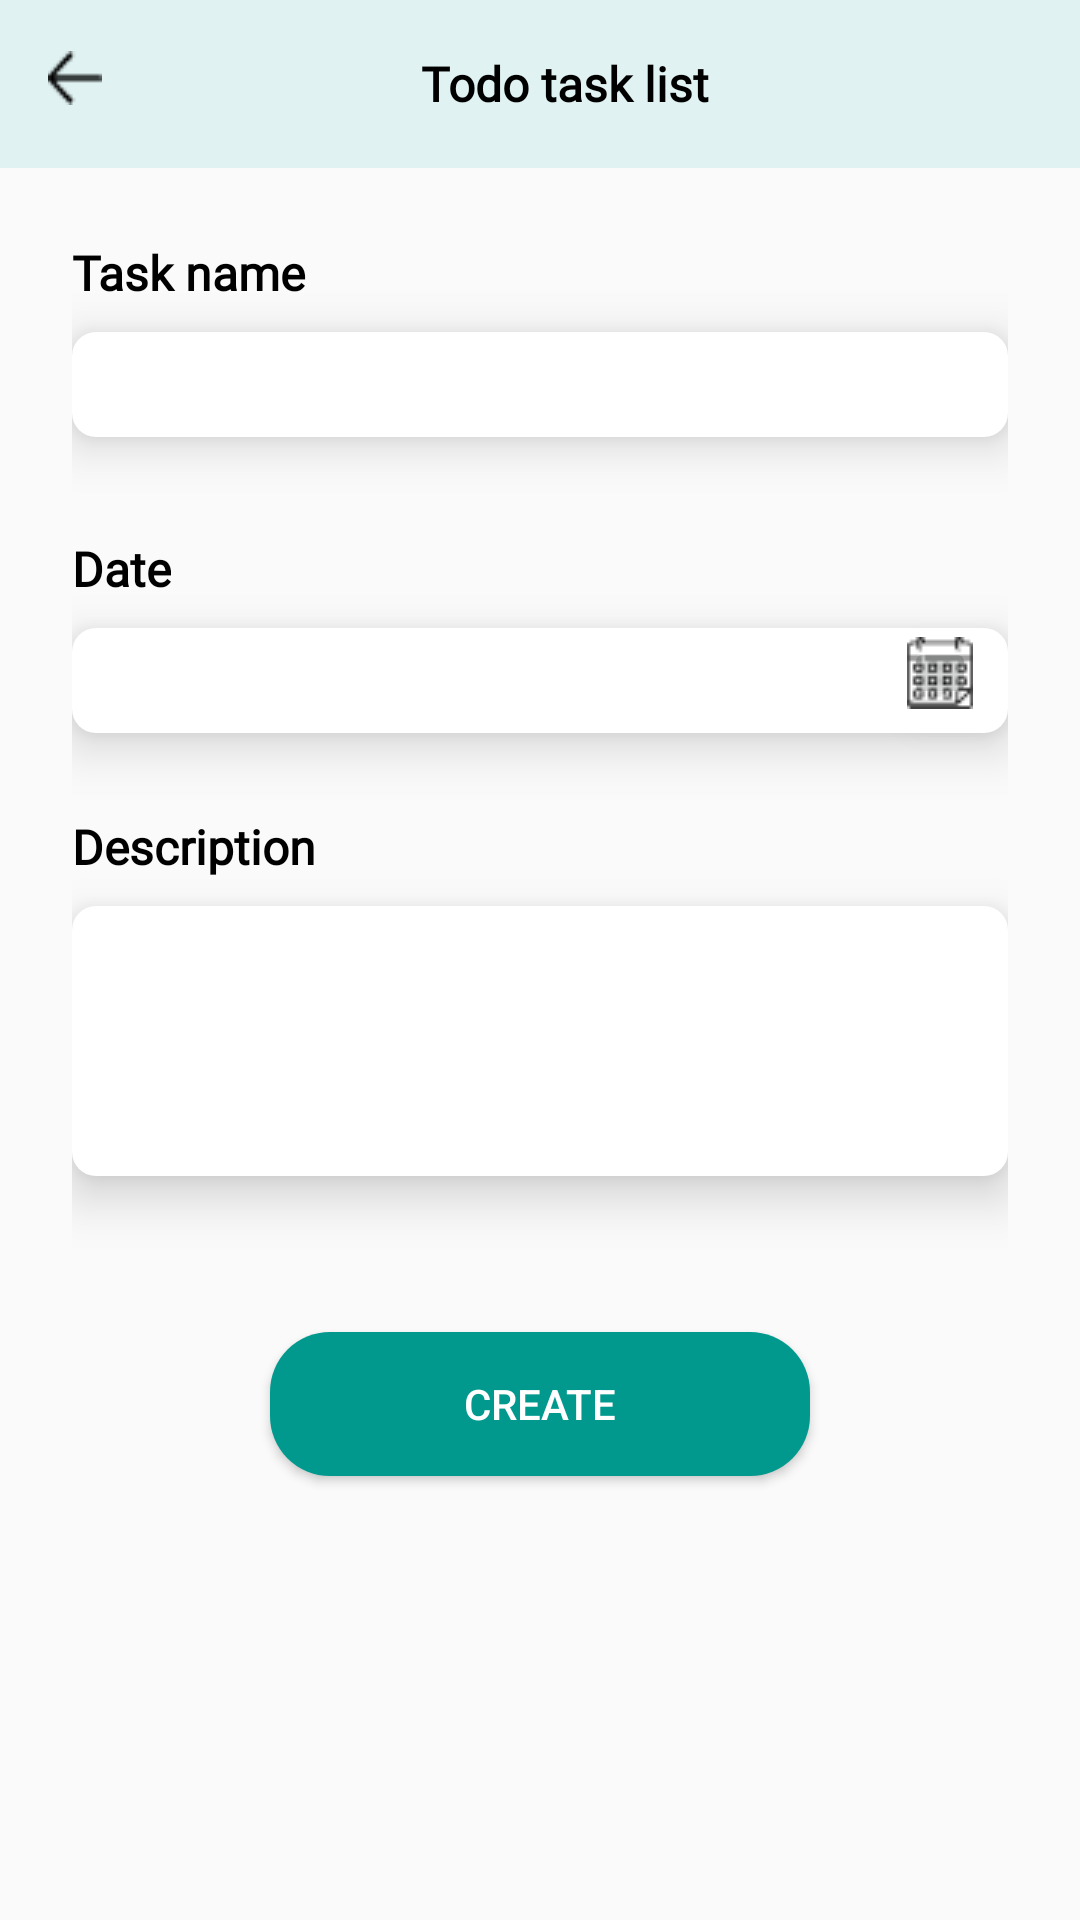

Named icons in this screenshot (1080w x 1920h) and their centers, point (x, y):
back: point (75, 78)
calendar: point (940, 673)
